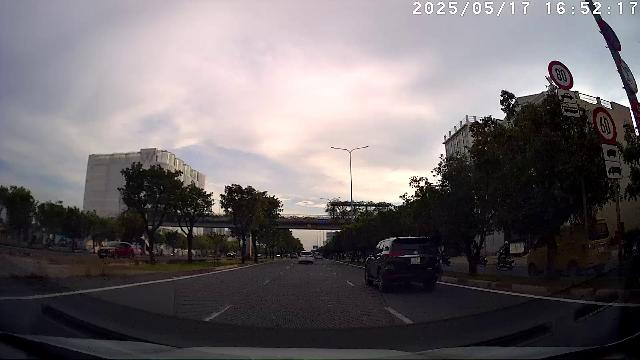127-toc-do-toi-da-60: (592, 106, 618, 144)
127-toc-do-toi-da-80: (548, 59, 575, 90)
